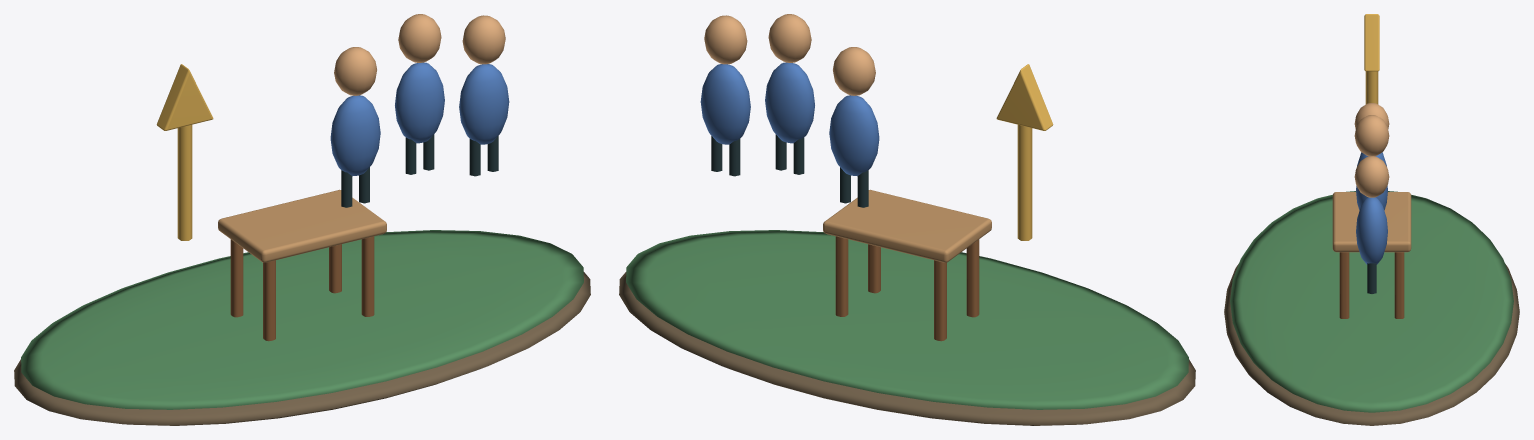
The model's file is complete-first-up-to-work-class.glb.
3 views of the same model, side by side, from view 1: azimuth 30°, elevation 25°; view 2: azimuth 150°, elevation 25°; view 3: azimuth 270°, elevation 25° (orthographic). The views are drawn at different scales.
Visible parts, largest first — view 1: complete-first-up-to-work-class_surface_01, complete-first-up-to-work-class_surface_00, complete-first-up-to-work-class_surface_04, complete-first-up-to-work-class_surface_06, complete-first-up-to-work-class_surface_03, complete-first-up-to-work-class_surface_02, complete-first-up-to-work-class_surface_07, complete-first-up-to-work-class_surface_05; view 2: complete-first-up-to-work-class_surface_01, complete-first-up-to-work-class_surface_00, complete-first-up-to-work-class_surface_04, complete-first-up-to-work-class_surface_06, complete-first-up-to-work-class_surface_03, complete-first-up-to-work-class_surface_02, complete-first-up-to-work-class_surface_07, complete-first-up-to-work-class_surface_05; view 3: complete-first-up-to-work-class_surface_01, complete-first-up-to-work-class_surface_00, complete-first-up-to-work-class_surface_06, complete-first-up-to-work-class_surface_03, complete-first-up-to-work-class_surface_04, complete-first-up-to-work-class_surface_07, complete-first-up-to-work-class_surface_02, complete-first-up-to-work-class_surface_05.
Part boxes in pixels (left/top/right/bottom): complete-first-up-to-work-class_surface_01: left=21, top=230, right=583, bottom=409; complete-first-up-to-work-class_surface_00: left=14, top=272, right=590, bottom=425; complete-first-up-to-work-class_surface_04: left=330, top=62, right=509, bottom=176; complete-first-up-to-work-class_surface_06: left=218, top=189, right=386, bottom=262; complete-first-up-to-work-class_surface_03: left=334, top=14, right=505, bottom=95; complete-first-up-to-work-class_surface_02: left=156, top=64, right=213, bottom=240; complete-first-up-to-work-class_surface_07: left=230, top=236, right=374, bottom=341; complete-first-up-to-work-class_surface_05: left=341, top=134, right=498, bottom=207; complete-first-up-to-work-class_surface_01: left=626, top=230, right=1188, bottom=409; complete-first-up-to-work-class_surface_00: left=619, top=272, right=1195, bottom=425; complete-first-up-to-work-class_surface_04: left=700, top=62, right=879, bottom=176; complete-first-up-to-work-class_surface_06: left=823, top=189, right=991, bottom=262; complete-first-up-to-work-class_surface_03: left=704, top=14, right=875, bottom=95; complete-first-up-to-work-class_surface_02: left=996, top=64, right=1053, bottom=240; complete-first-up-to-work-class_surface_07: left=835, top=236, right=979, bottom=341; complete-first-up-to-work-class_surface_05: left=711, top=134, right=868, bottom=207; complete-first-up-to-work-class_surface_01: left=1230, top=191, right=1513, bottom=412; complete-first-up-to-work-class_surface_00: left=1224, top=263, right=1519, bottom=425; complete-first-up-to-work-class_surface_06: left=1332, top=192, right=1411, bottom=252; complete-first-up-to-work-class_surface_03: left=1354, top=103, right=1389, bottom=197; complete-first-up-to-work-class_surface_04: left=1356, top=152, right=1387, bottom=264; complete-first-up-to-work-class_surface_07: left=1339, top=252, right=1404, bottom=318; complete-first-up-to-work-class_surface_02: left=1364, top=14, right=1379, bottom=104; complete-first-up-to-work-class_surface_05: left=1367, top=263, right=1376, bottom=293.
Size of the model in its own units: 4.56 by 2.46 by 2.5.
